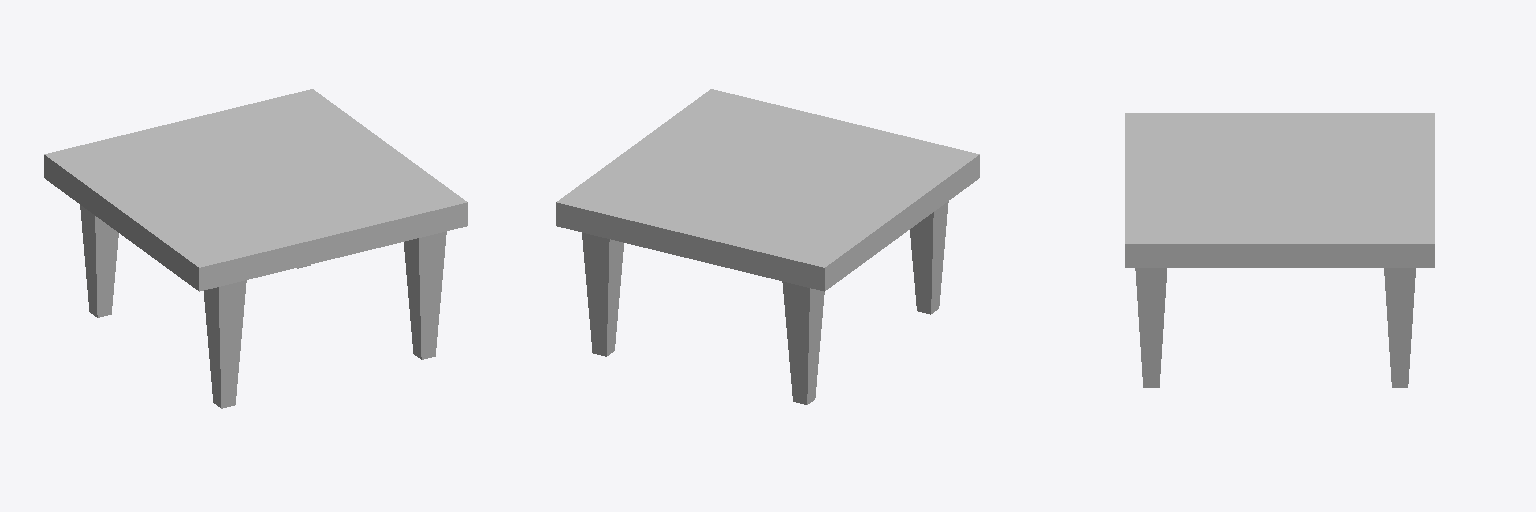
The model's file is scene_table.obj.
3 views of the same model, side by side, from view 1: azimuth 30°, elevation 25°; view 2: azimuth 150°, elevation 25°; view 3: azimuth 270°, elevation 25° (orthographic).
Parts seen in each view (by area): view 1: Cube; view 2: Cube; view 3: Cube.
Part boxes in pixels (left/top/right/bottom): Cube: left=44, top=89, right=467, bottom=408; Cube: left=556, top=89, right=979, bottom=404; Cube: left=1125, top=113, right=1434, bottom=387.
Size of the model in its own units: 2 by 1.1 by 2.